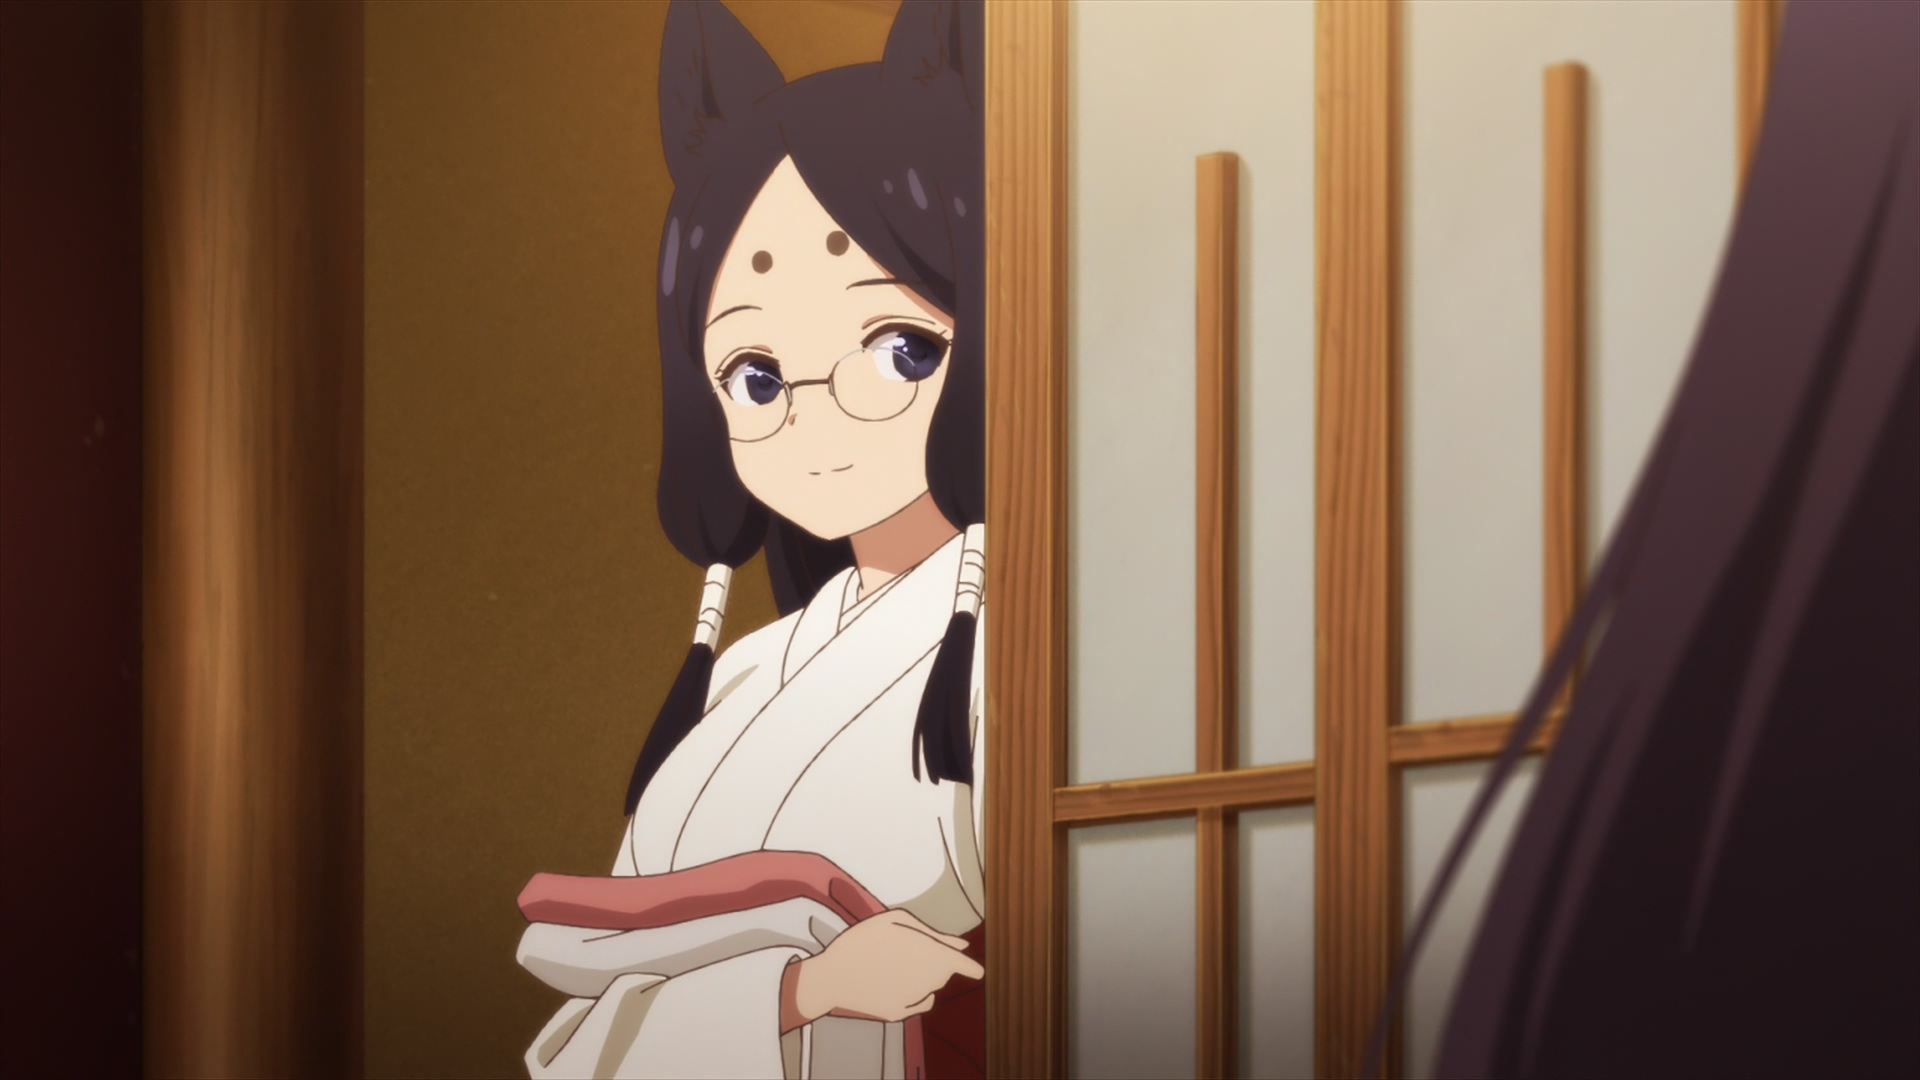菖: (512, 1, 985, 1080)
